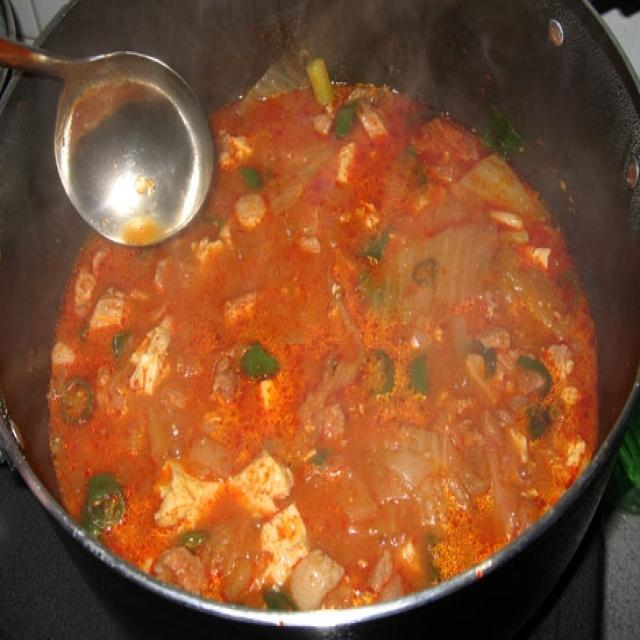汤锅炖物: (20, 26, 610, 608)
